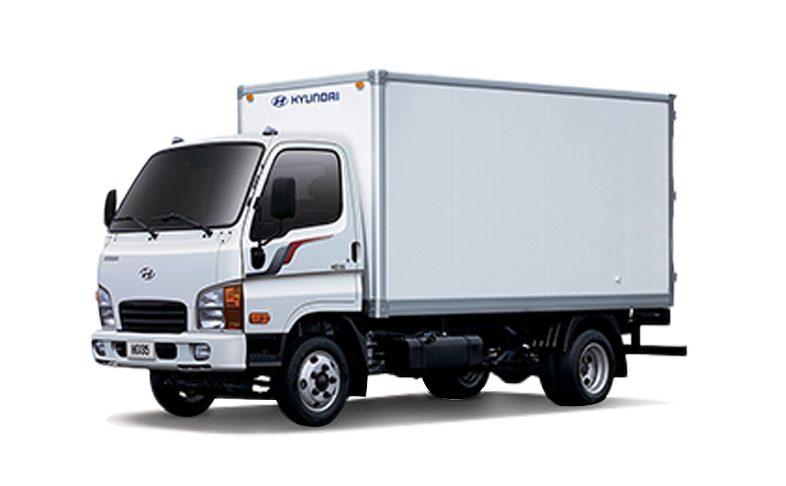truck: (89, 69, 688, 428)
